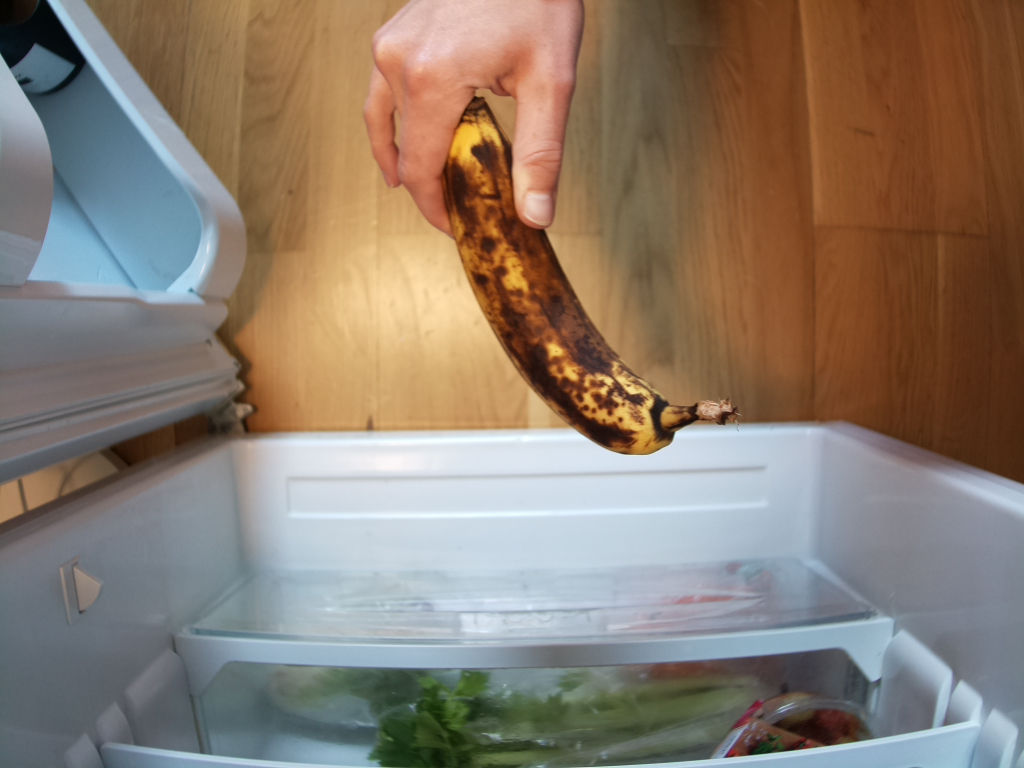banana-overripe: (442, 101, 733, 454)
